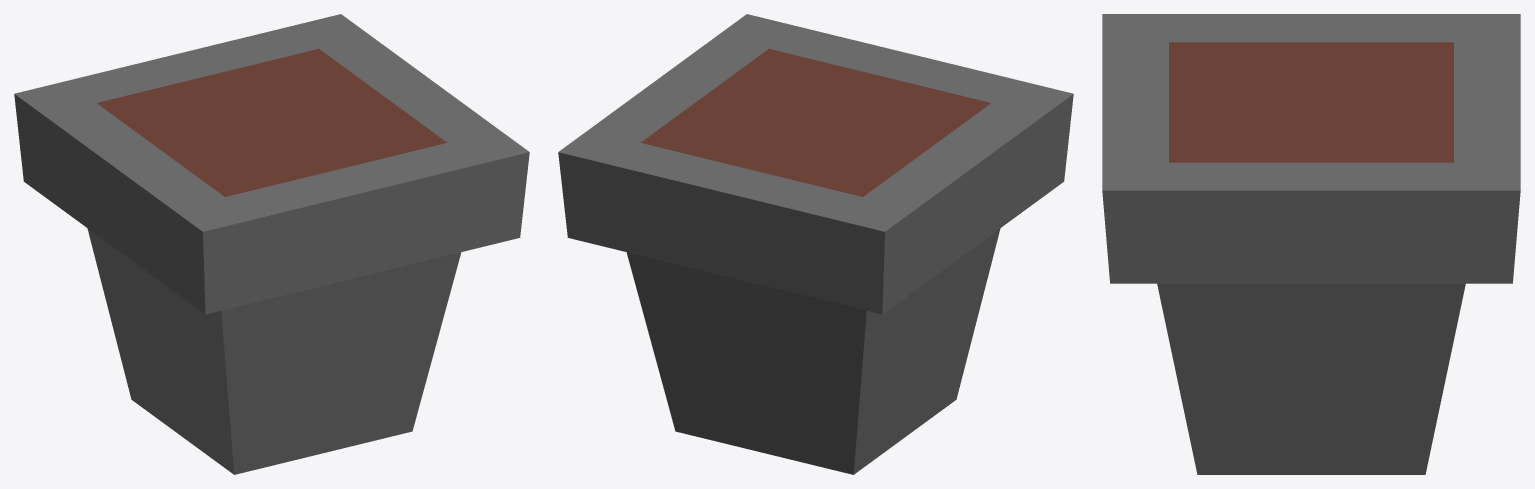
Rendered from flower_pot_03.fbx.
3 views of the same model, side by side, from view 1: azimuth 30°, elevation 25°; view 2: azimuth 150°, elevation 25°; view 3: azimuth 270°, elevation 25° (orthographic). The views are drawn at different scales.
Visible parts, largest first — view 1: flower_pot_03; view 2: flower_pot_03; view 3: flower_pot_03.
Boxes of the visible parts, x1=… form: flower_pot_03: x1=14, y1=14, x2=529, y2=474; flower_pot_03: x1=558, y1=14, x2=1073, y2=474; flower_pot_03: x1=1102, y1=14, x2=1520, y2=474.
Bounding box in the file's own units: 77.83 × 66.59 × 77.83.
